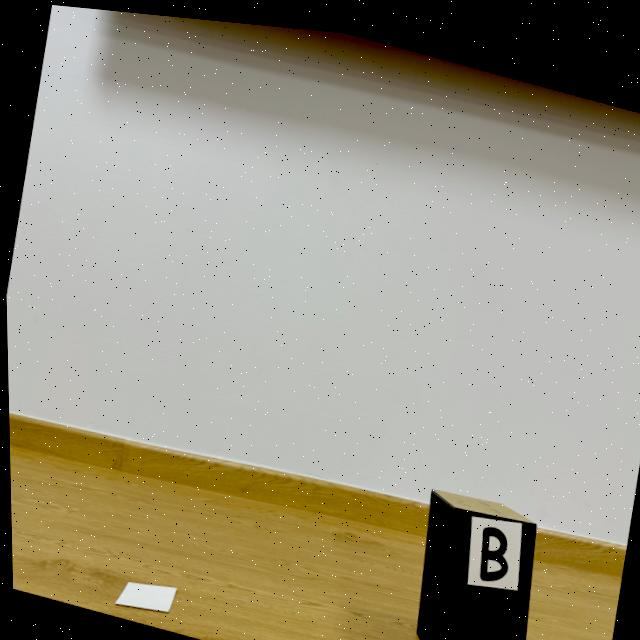B: (476, 516, 505, 572)
